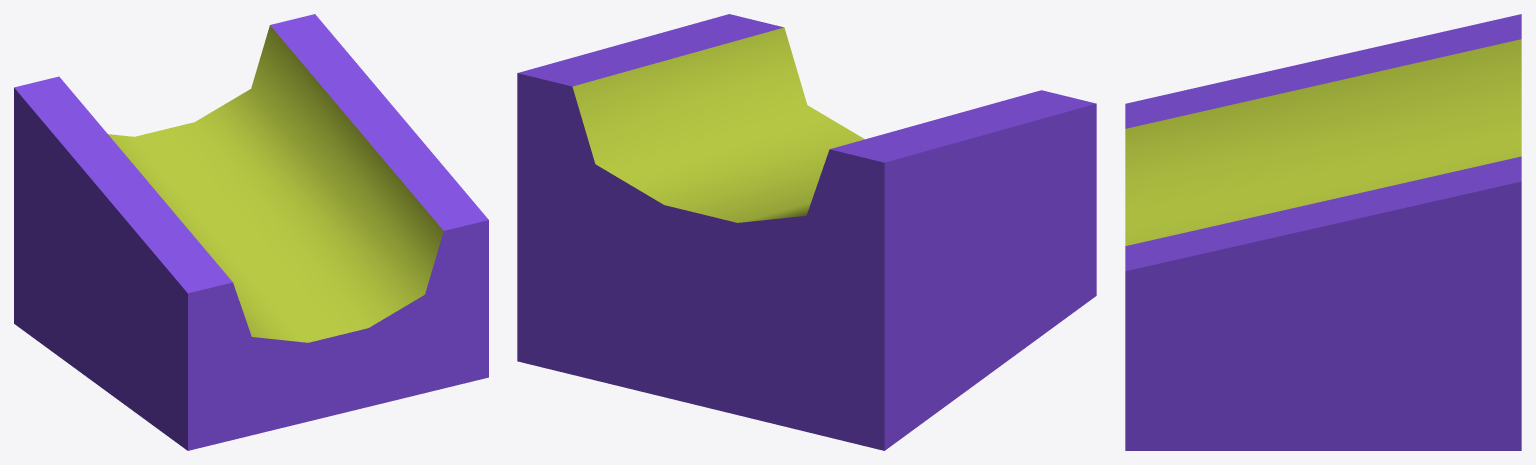
Rendered from slant_solid_A-col.dae.
3 views of the same model, side by side, from view 1: azimuth 30°, elevation 25°; view 2: azimuth 150°, elevation 25°; view 3: azimuth 270°, elevation 25° (orthographic). The views are drawn at different scales.
Parts seen in each view (by area): view 1: slant_solid_A-col; view 2: slant_solid_A-col; view 3: slant_solid_A-col.
Boxes of the visible parts, box(x1,y1,x2,y2) form: slant_solid_A-col: box(14, 14, 488, 450); slant_solid_A-col: box(517, 14, 1096, 450); slant_solid_A-col: box(1125, 14, 1521, 450).
Bounding box in the file's own units: 1 × 1 × 0.75.
